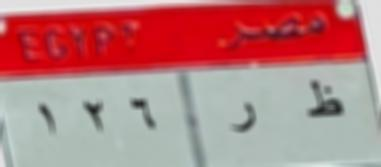1: (35, 98, 62, 136)
2: (82, 95, 108, 134)
6: (127, 90, 161, 136)
Thaa: (302, 74, 342, 119)
raa: (228, 99, 260, 135)
